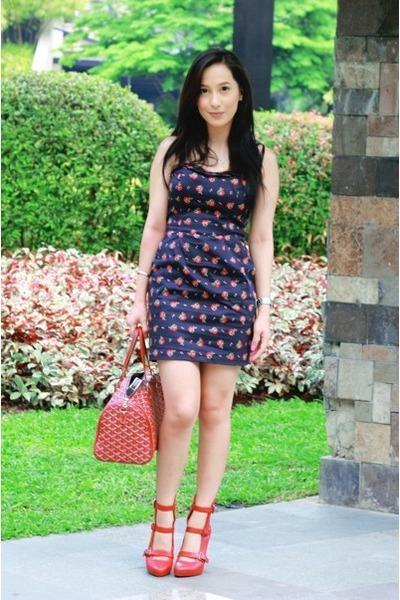bag: (93, 324, 164, 463)
dress: (133, 156, 264, 379)
shoe: (143, 500, 213, 577)
